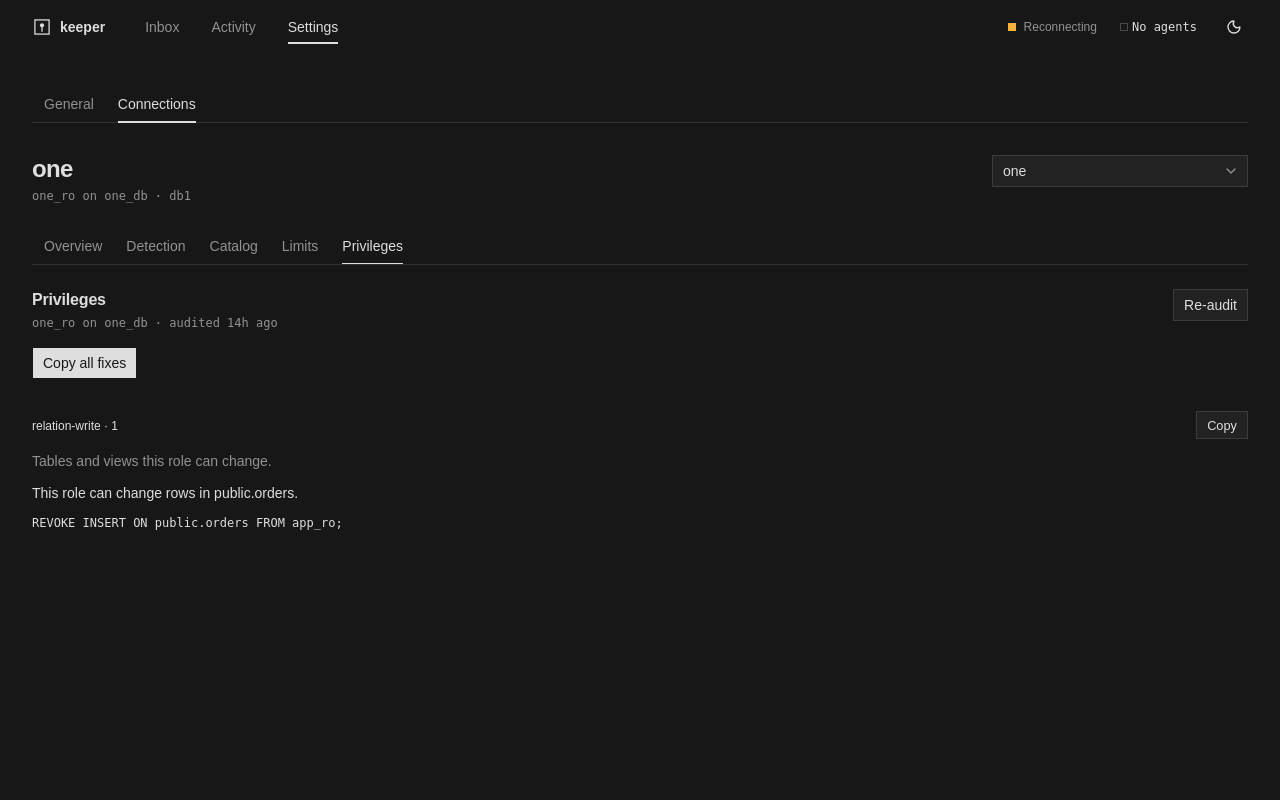
a connection's Privileges tab › PRIV-C5 a failed re-audit shows the error and keeps the findings
The image size is (1280, 800).
Click the button "Re-audit" at (1211,305), box [1173, 289, 1248, 321]
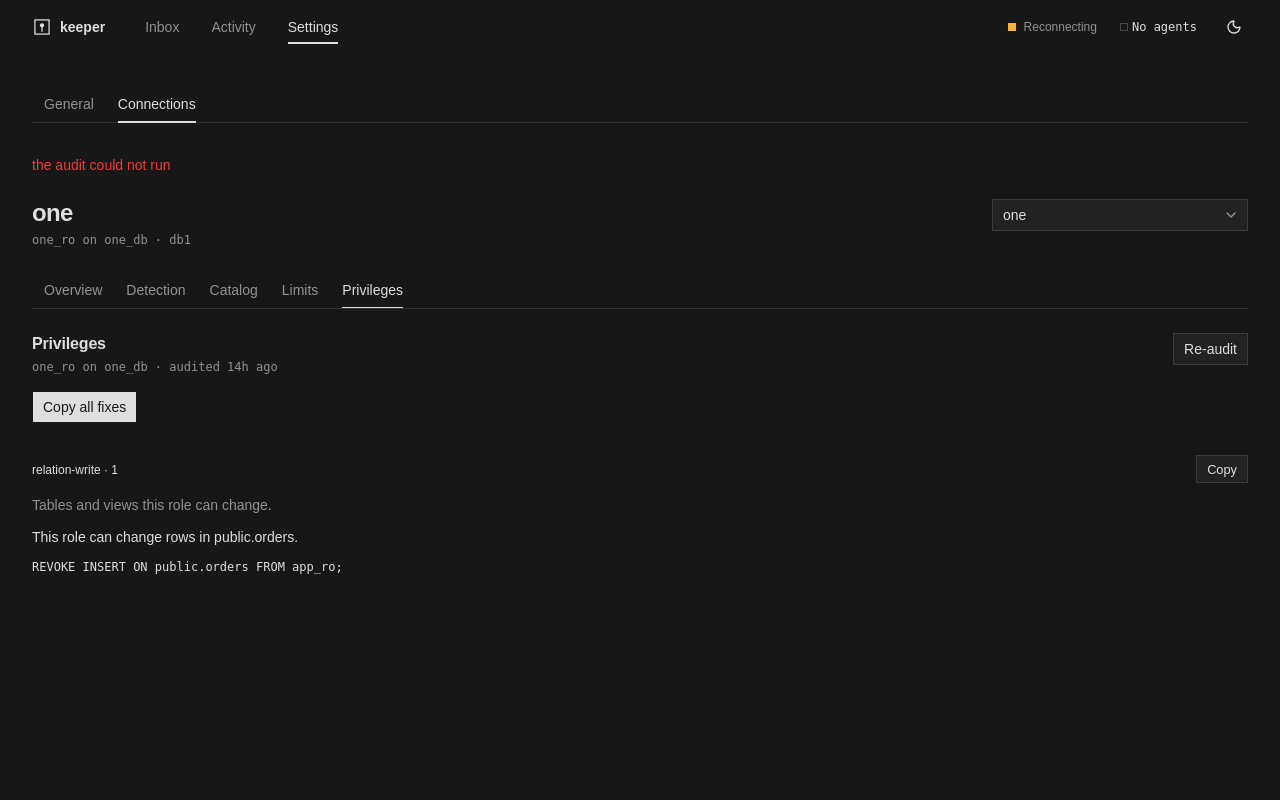
Expected: the list item "This role can change rows in public.orders." is shown, [32, 529, 298, 545]
Now the text "the audit could not run" is shown, box [32, 157, 170, 173]
